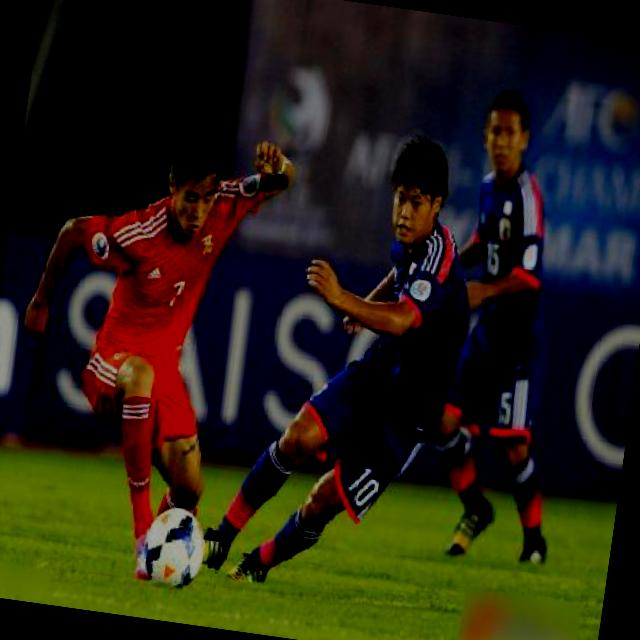Person: (2, 96, 284, 614)
